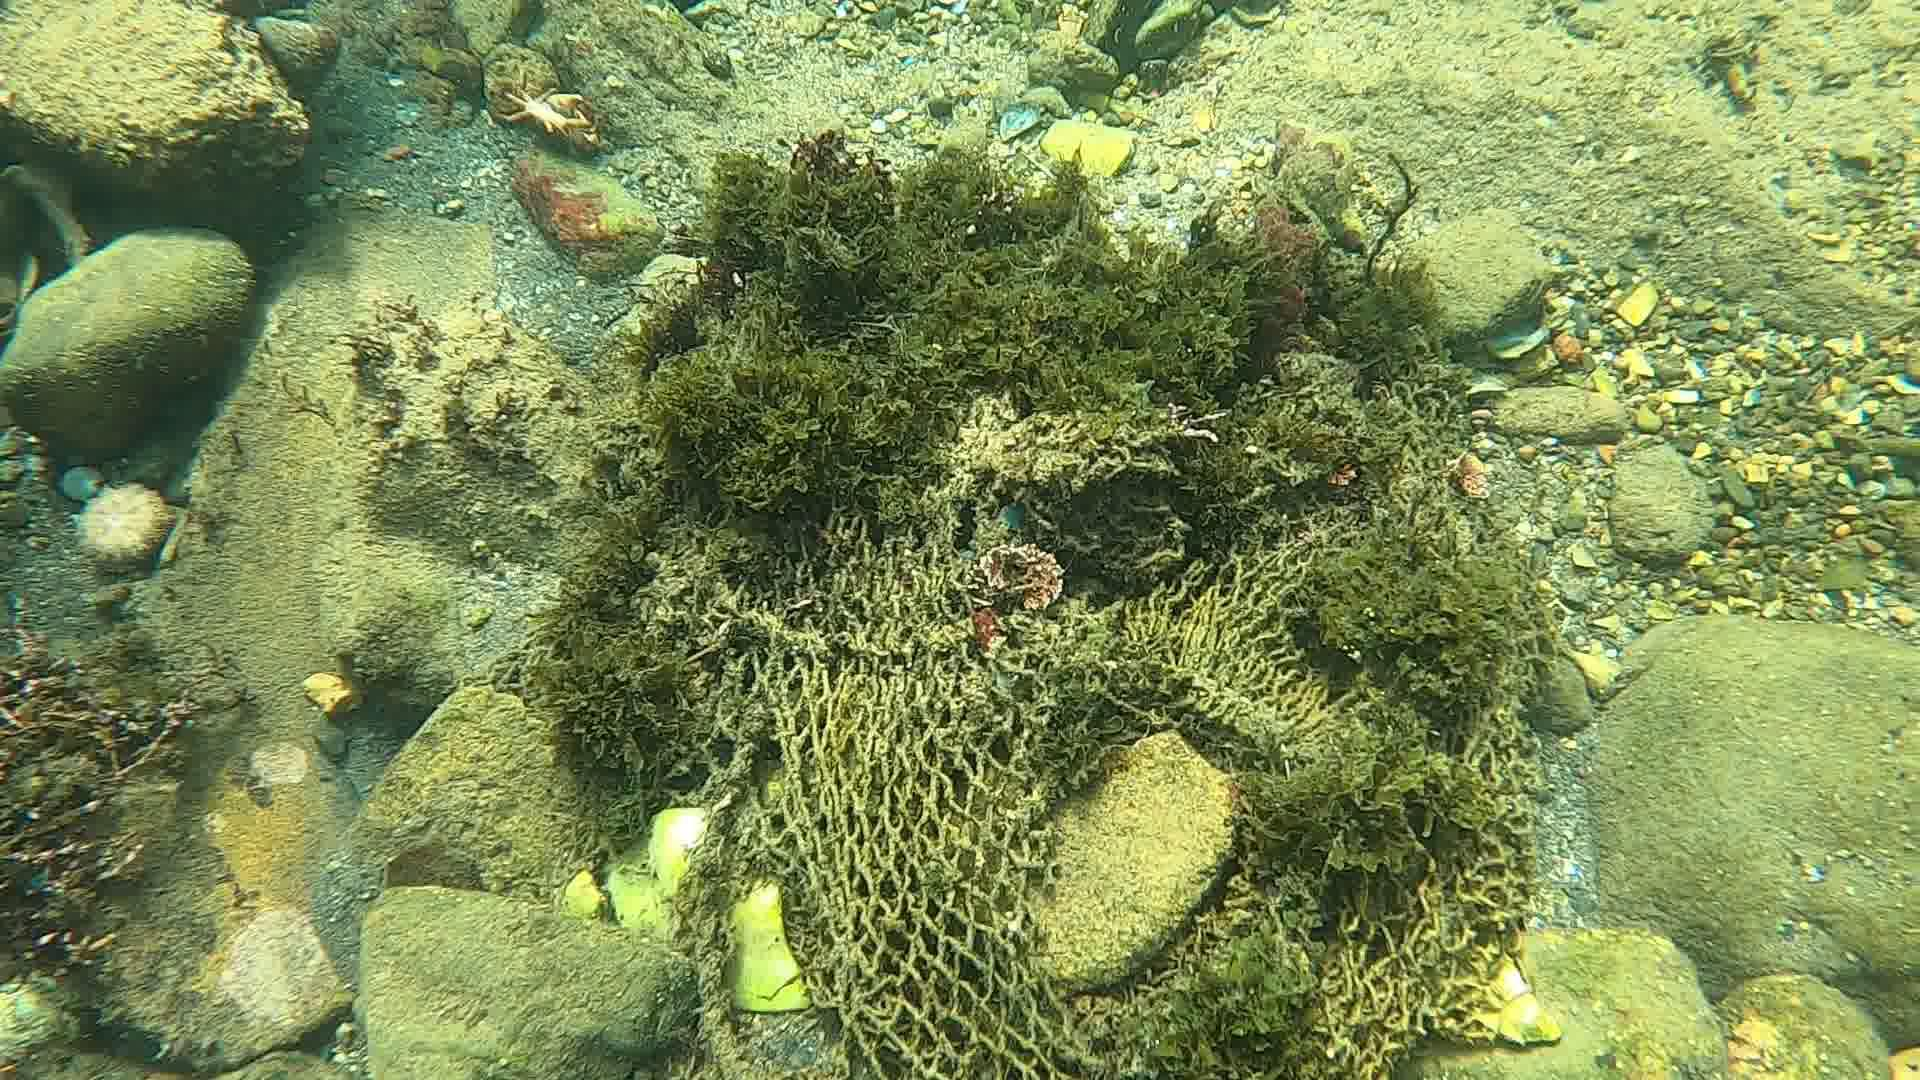fish net: (745, 717, 1555, 1080)
